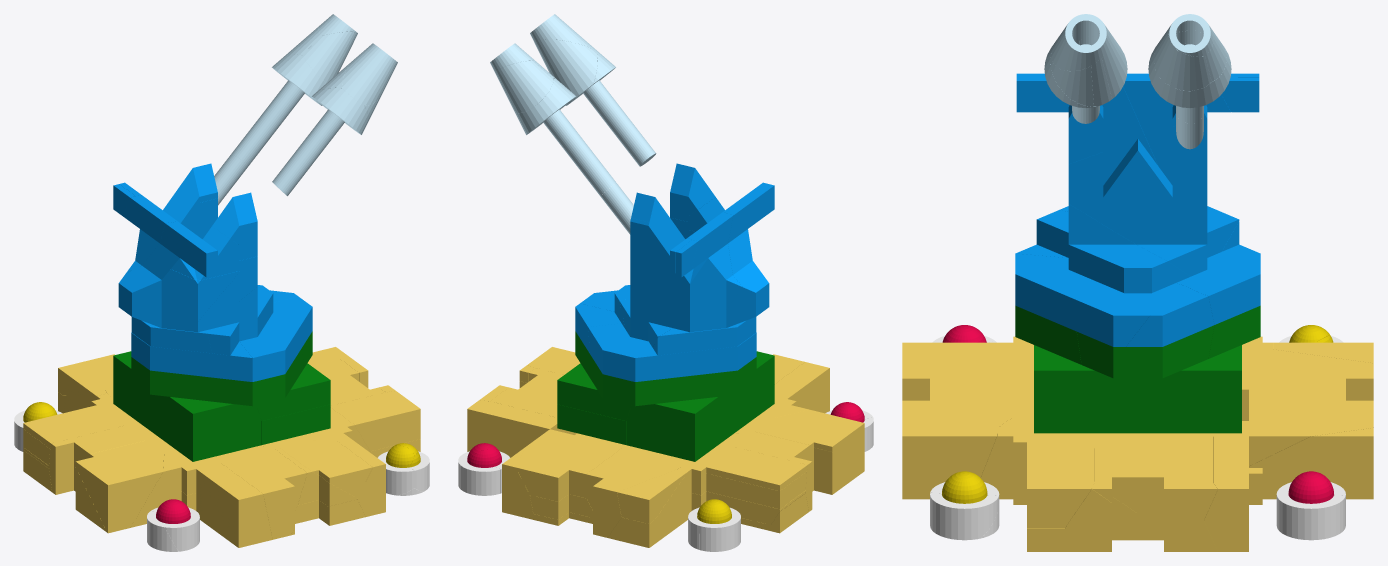
The model's file is LandCannonDebris.dae.
The picture shows the model from 3 angles, left to right: view 1: azimuth 30°, elevation 25°; view 2: azimuth 150°, elevation 25°; view 3: azimuth 270°, elevation 25°; orthographic projection. The views are drawn at different scales.
Parts seen in each view (by area): view 1: Cube.005_cell.004, Cube.001_cell.005, Cube.010_cell.003, Cube.002_cell.002, Cube.002_cell.006, Cube.011_cell.002, Cube.001_cell.001, Cube.004_cell.004, Cylinder_cell.003, Cylinder.003_cell.002, Cube.011_cell.001, Cube.008_cell.003 (+38 smaller); view 2: Cube.005_cell.001, Cube.003_cell.006, Cube.010_cell.003, Cube.009_cell.002, Cube.003_cell, Cube.001_cell.005, Cube.004_cell, Cube.001_cell.001, Cube.011_cell, Cylinder.003_cell.002, Cube.007_cell, Cube.001_cell.006 (+38 smaller); view 3: Cube.007_cell, Cube.011_cell.002, Cube.007_cell.001, Cube.004_cell.006, Cube.003_cell.006, Cube.003_cell.003, Cube.002_cell, Cube.004_cell.004, Cube.003_cell, Cube.002_cell.006, Cube.004_cell, Cube.006_cell.002 (+40 smaller).
Boxes of the visible parts, x1,y1,x2,y2 form: Cube.005_cell.004: (153, 395, 261, 461); Cube.001_cell.005: (75, 438, 163, 533); Cube.010_cell.003: (118, 221, 217, 327); Cube.002_cell.002: (196, 463, 272, 547); Cube.002_cell.006: (221, 446, 307, 539); Cube.011_cell.002: (239, 296, 312, 381); Cube.001_cell.001: (49, 423, 146, 532); Cube.004_cell.004: (330, 391, 420, 451); Cylinder_cell.003: (272, 88, 368, 196); Cylinder.003_cell.002: (232, 54, 326, 165); Cube.011_cell.001: (131, 332, 252, 381); Cube.008_cell.003: (161, 269, 239, 330); Cube.005_cell.001: (626, 395, 734, 461); Cube.003_cell.006: (516, 429, 622, 501); Cube.010_cell.003: (723, 182, 774, 327); Cube.009_cell.002: (648, 255, 726, 332); Cube.003_cell: (586, 447, 685, 537); Cube.001_cell.005: (755, 409, 864, 471); Cube.004_cell: (467, 400, 566, 457); Cube.001_cell.001: (725, 432, 863, 511); Cube.011_cell: (588, 323, 671, 381); Cylinder.003_cell.002: (514, 79, 615, 195); Cube.007_cell: (619, 217, 688, 347); Cube.001_cell.006: (706, 444, 807, 491); Cube.007_cell: (1068, 105, 1239, 276); Cube.011_cell.002: (1015, 253, 1150, 346); Cube.007_cell.001: (1036, 204, 1190, 293); Cube.004_cell.006: (1094, 436, 1213, 513); Cube.003_cell.006: (1249, 389, 1373, 466); Cube.003_cell.003: (1249, 428, 1373, 499); Cube.002_cell: (902, 428, 996, 499); Cube.004_cell.004: (1027, 447, 1094, 528); Cube.003_cell: (1249, 349, 1373, 400); Cube.002_cell.006: (902, 358, 1026, 400); Cube.004_cell: (1204, 436, 1248, 551); Cube.006_cell.002: (1077, 325, 1214, 378).
Bounding box in the file's own units: 6.8 × 6.8 × 8.33.
